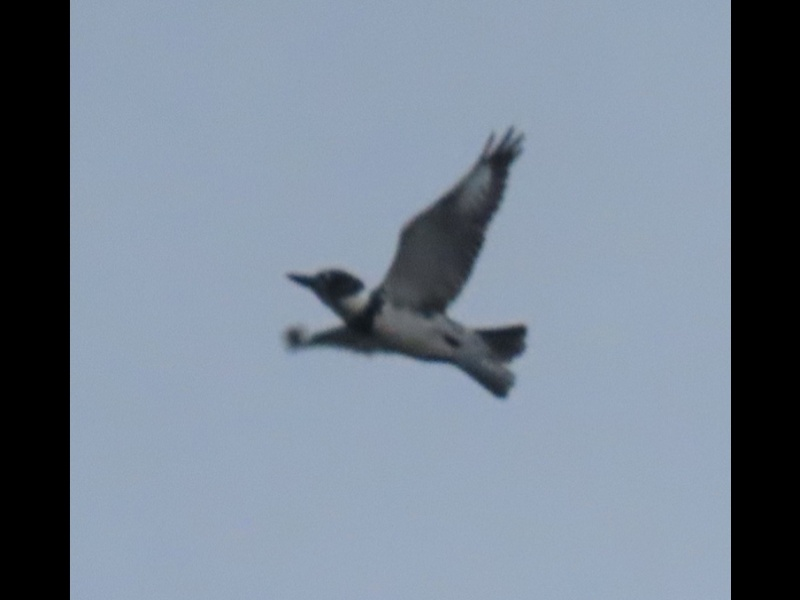kingfisher: (274, 120, 534, 408)
